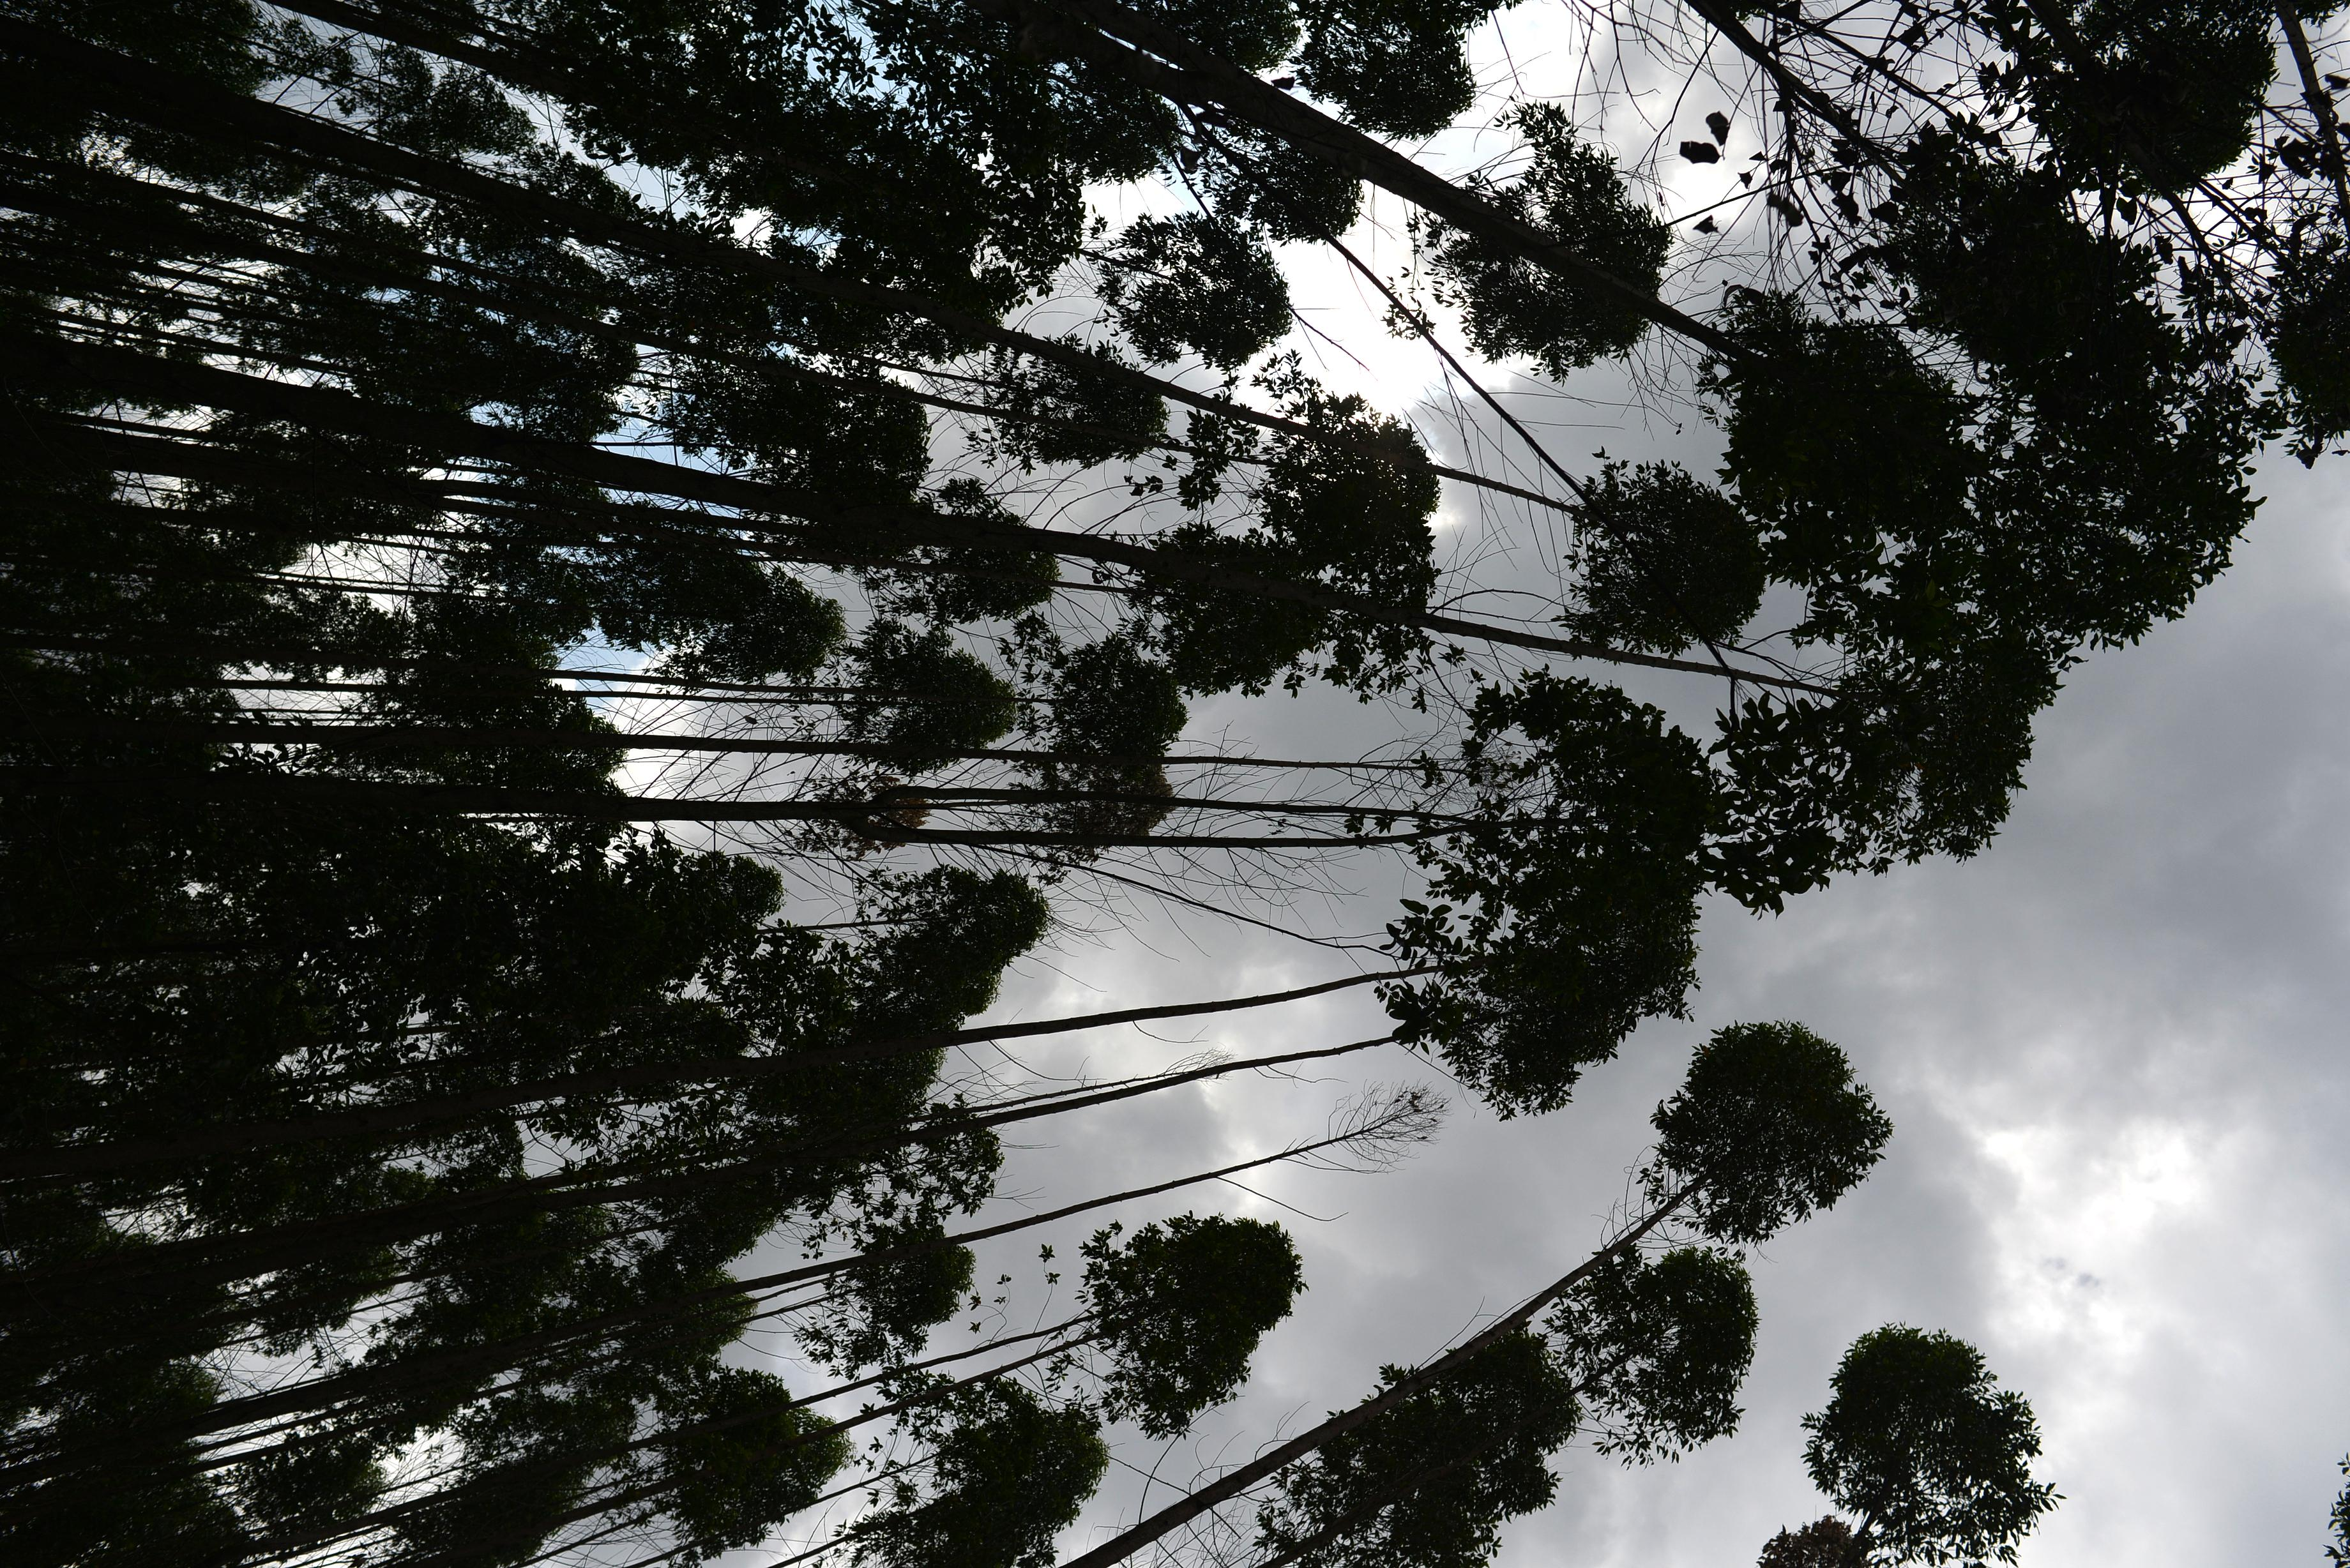Wither Tree Parts: (1332, 1073, 1452, 1176)
